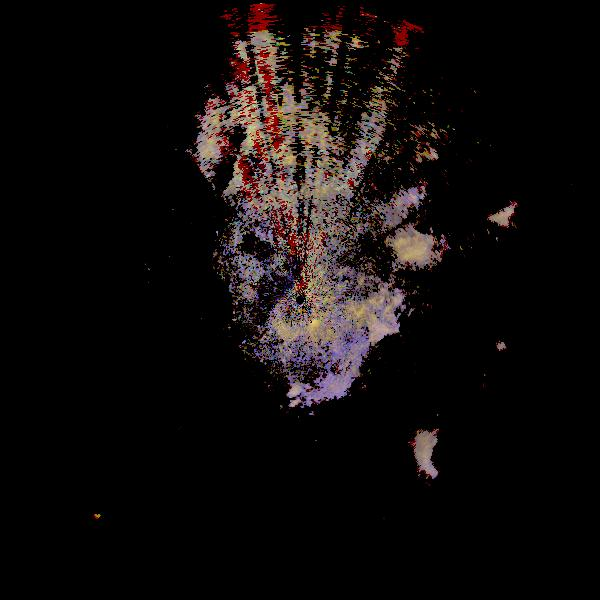roost: (370, 151, 505, 286)
